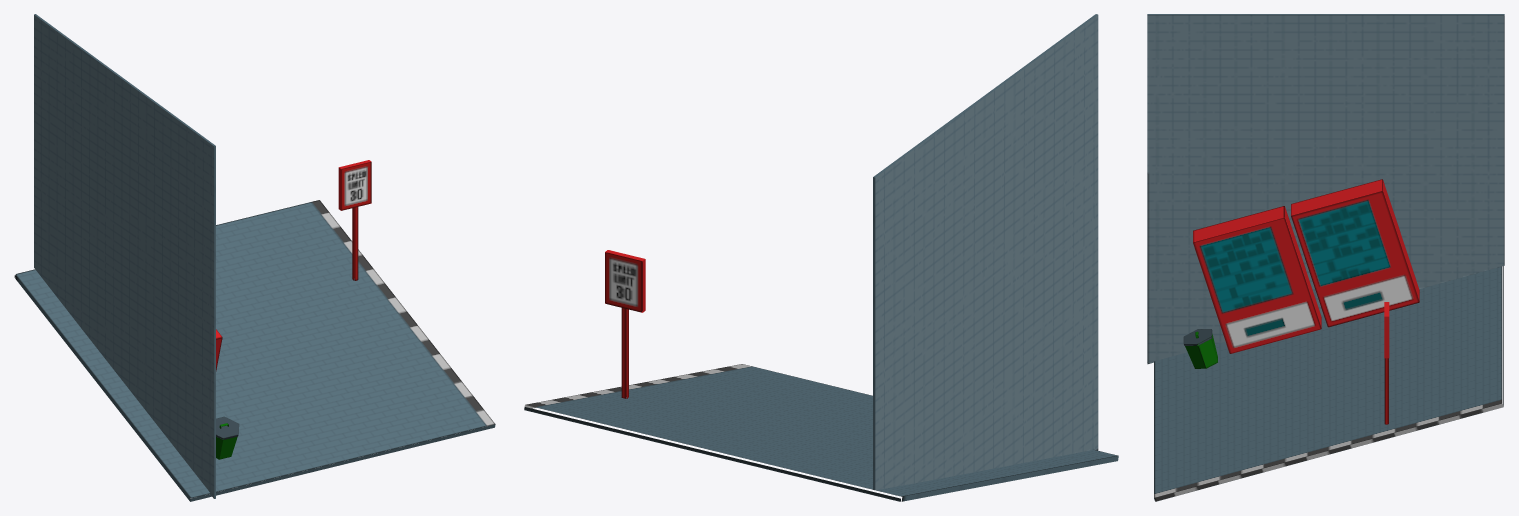
File: slope.fbx
3 views of the same model, side by side, from view 1: azimuth 30°, elevation 25°; view 2: azimuth 150°, elevation 25°; view 3: azimuth 270°, elevation 25° (orthographic). The views are drawn at different scales.
Visible parts, largest first — view 1: plane, plane_2, plane_1, circle; view 2: plane_2, plane, plane_1, circle_1; view 3: plane_2, plane, group, circle.
Boxes of the visible parts, x1=… form: plane: x1=14, y1=200, x2=495, y2=501; plane_2: x1=34, y1=14, x2=215, y2=498; plane_1: x1=338, y1=160, x2=371, y2=210; circle: x1=216, y1=416, x2=239, y2=459; plane_2: x1=873, y1=14, x2=1098, y2=490; plane: x1=524, y1=364, x2=1118, y2=501; plane_1: x1=605, y1=250, x2=645, y2=312; circle_1: x1=621, y1=308, x2=628, y2=398; plane_2: x1=1147, y1=14, x2=1504, y2=364; plane: x1=1154, y1=266, x2=1503, y2=501; group: x1=1193, y1=179, x2=1419, y2=353; circle: x1=1183, y1=329, x2=1217, y2=368.
Bounding box in the file's own units: 1000 × 1109 × 1025.
Materials: 1 (1 with a texture image).
